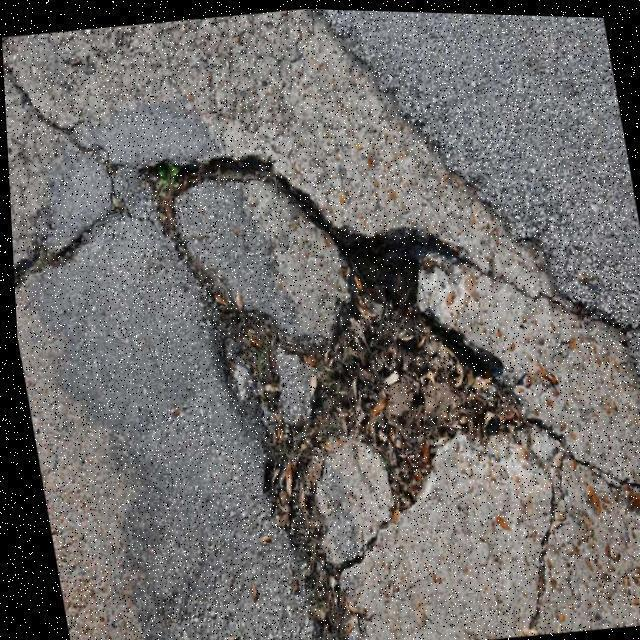Pothole: (140, 158, 526, 640)
